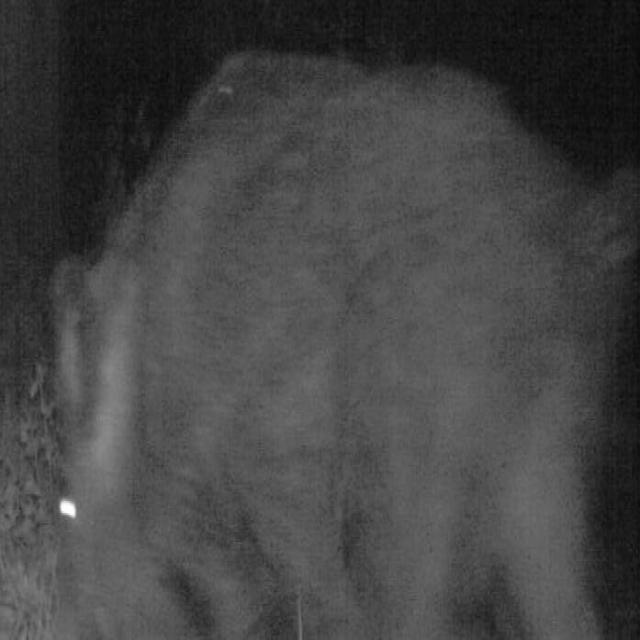pig: (33, 43, 640, 618)
